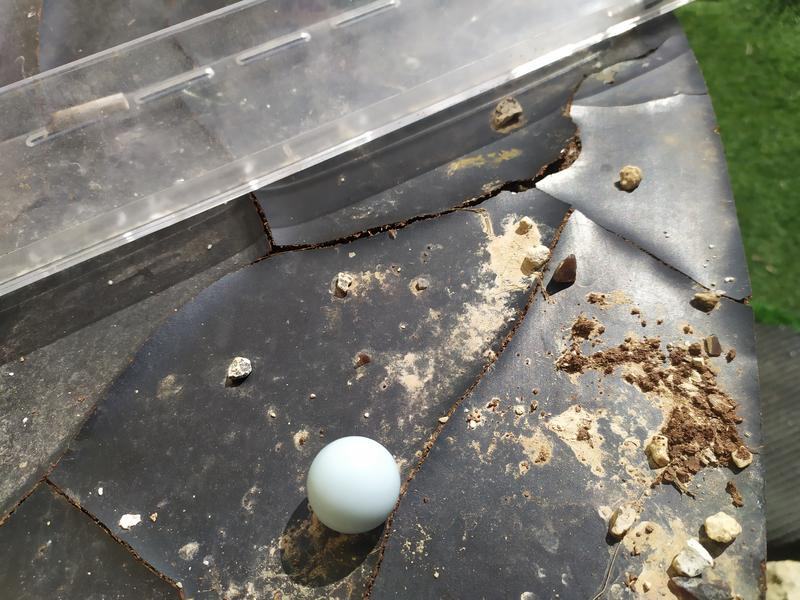Warning: (304, 432, 404, 537)
